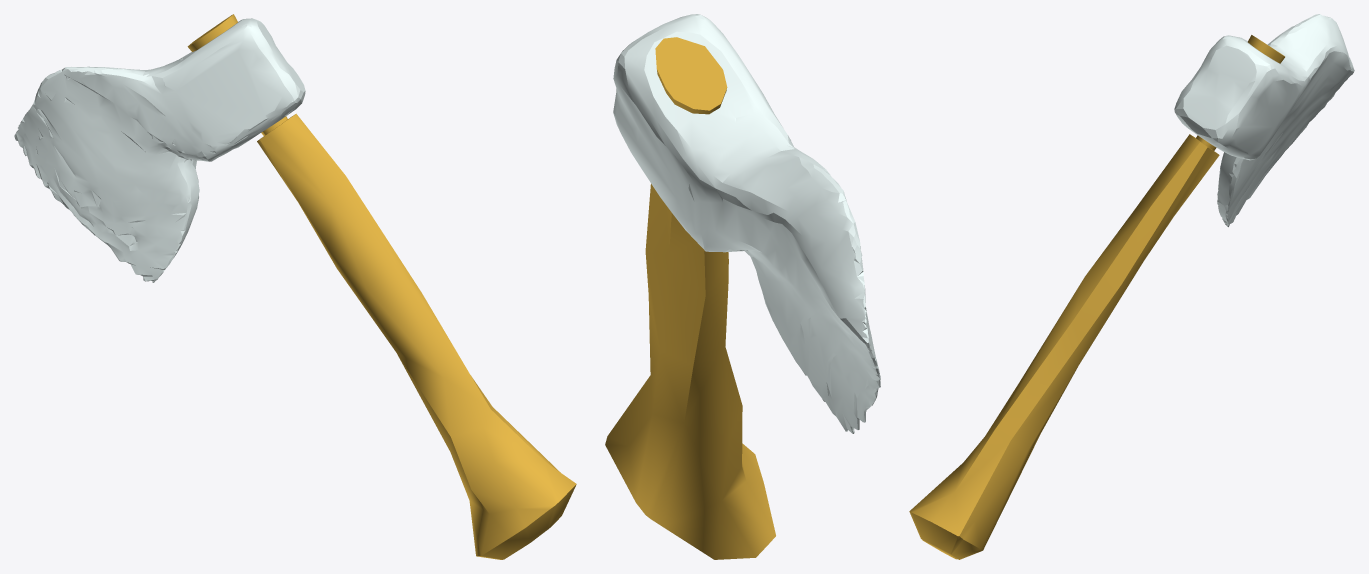
File: axe-iron-39.glb
The picture shows the model from 3 angles, left to right: view 1: azimuth 30°, elevation 25°; view 2: azimuth 150°, elevation 25°; view 3: azimuth 270°, elevation 25°; orthographic projection. The views are drawn at different scales.
Visible parts, largest first — view 1: iron-axe-head, iron-axe; view 2: iron-axe-head, iron-axe; view 3: iron-axe, iron-axe-head.
Part boxes in pixels (x1=…): iron-axe-head: x1=14, y1=18, x2=305, y2=282; iron-axe: x1=187, y1=14, x2=576, y2=559; iron-axe-head: x1=613, y1=14, x2=880, y2=433; iron-axe: x1=605, y1=37, x2=775, y2=559; iron-axe: x1=909, y1=35, x2=1284, y2=559; iron-axe-head: x1=1174, y1=14, x2=1354, y2=227.
Bounding box in the file's own units: 0.702 × 0.8647 × 0.7519.
